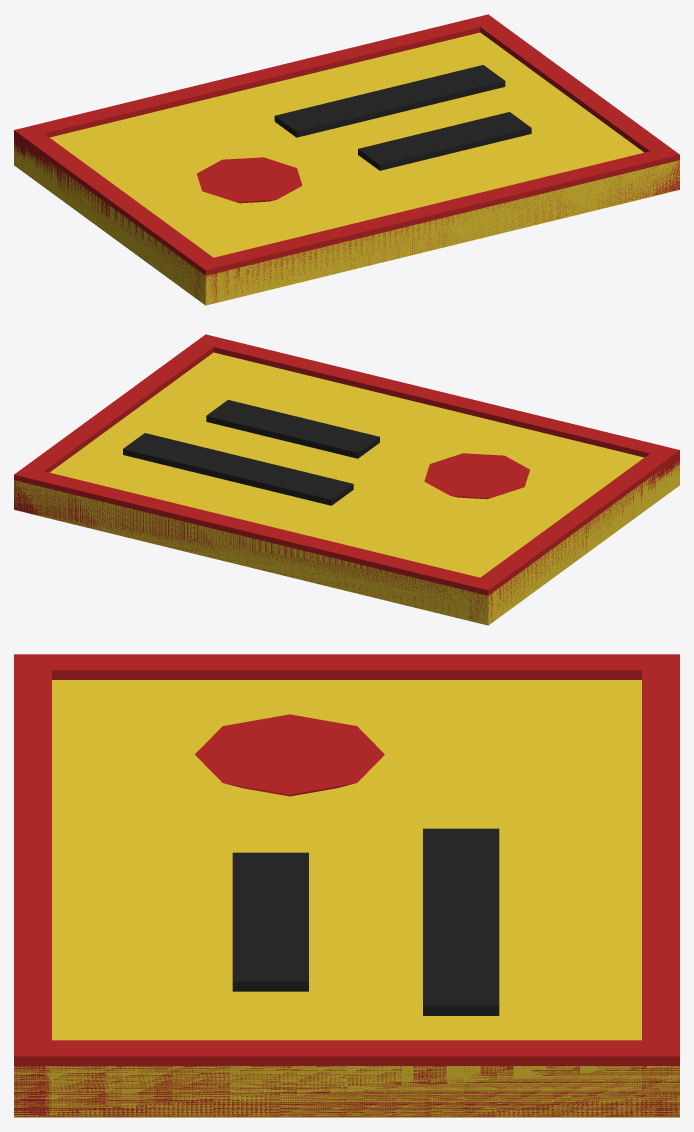
File: fresh_sign.glb
The picture shows the model from 3 angles, top to bottom: view 1: azimuth 30°, elevation 25°; view 2: azimuth 150°, elevation 25°; view 3: azimuth 270°, elevation 25°; orthographic projection. The views are drawn at different scales.
Parts seen in each view (by area): view 1: board_sign_yellow, frame_sign_red, letters_sign_letters (×2), bucket_sign_red; view 2: board_sign_yellow, frame_sign_red, letters_sign_letters (×2), bucket_sign_red; view 3: board_sign_yellow, frame_sign_red, letters_sign_letters (×2), bucket_sign_red.
Boxes of the visible parts, left/top/right/bottom form: board_sign_yellow: left=14, top=32, right=679, bottom=305; frame_sign_red: left=14, top=14, right=679, bottom=302; letters_sign_letters (×2): left=274, top=65, right=531, bottom=170; bucket_sign_red: left=197, top=157, right=302, bottom=203; board_sign_yellow: left=14, top=352, right=679, bottom=625; frame_sign_red: left=14, top=334, right=679, bottom=622; letters_sign_letters (×2): left=123, top=400, right=379, bottom=505; bucket_sign_red: left=424, top=453, right=529, bottom=499; board_sign_yellow: left=14, top=680, right=679, bottom=1117; frame_sign_red: left=14, top=654, right=679, bottom=1116; letters_sign_letters (×2): left=232, top=828, right=499, bottom=1015; bucket_sign_red: left=195, top=714, right=384, bottom=796.
Size of the model in its own units: 0.5 by 0.038 by 0.35.
